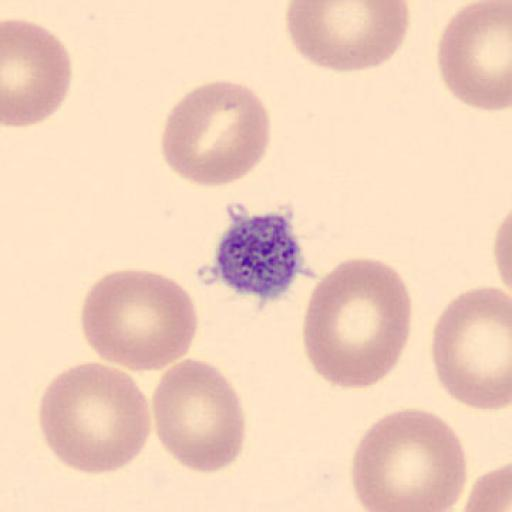Platelet: (209, 209, 307, 302)
RBC: (300, 255, 414, 392), (36, 360, 153, 475), (79, 266, 200, 374), (350, 406, 469, 512), (159, 78, 272, 189), (151, 358, 247, 474), (431, 284, 512, 413), (284, 1, 412, 74), (436, 0, 512, 113), (2, 17, 73, 128), (460, 461, 511, 512), (492, 208, 512, 310), (493, 214, 511, 288)
